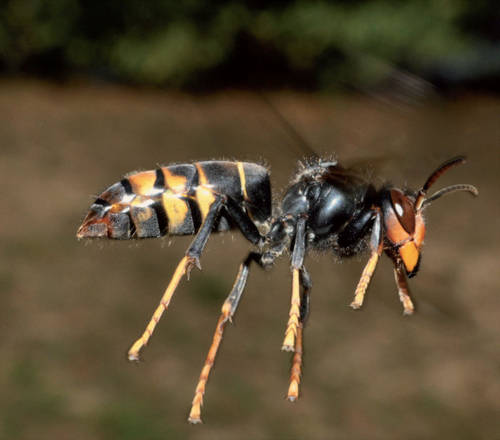hornet: (72, 130, 464, 342)
